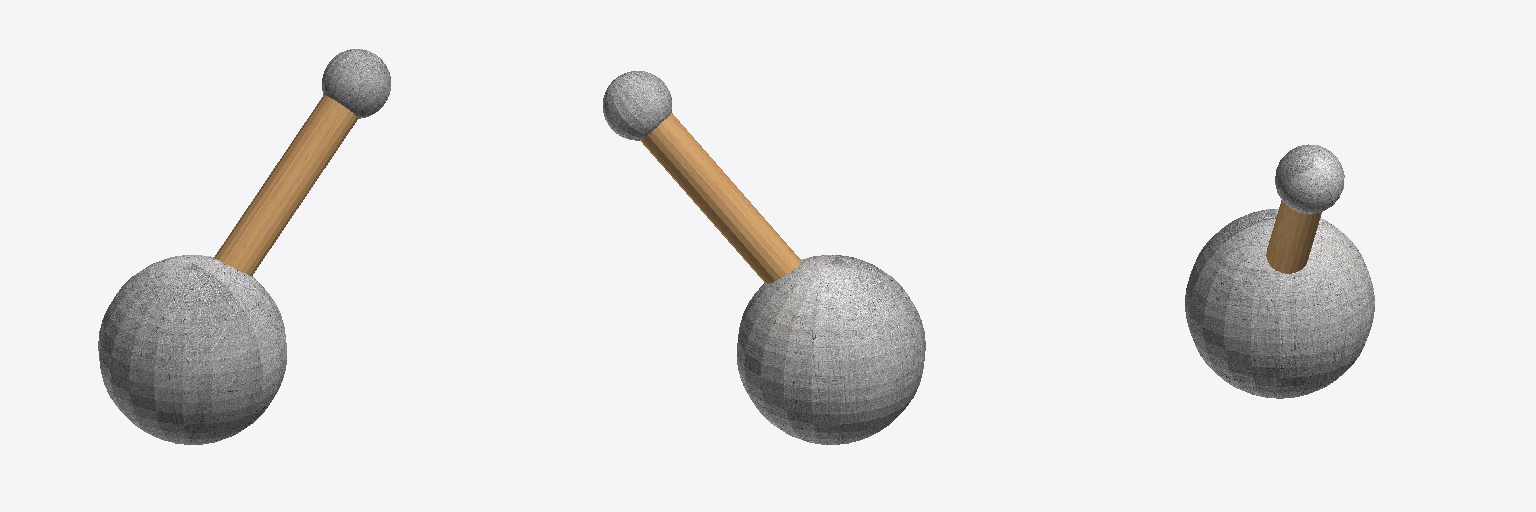
The picture shows the model from 3 angles: view 1: azimuth 30°, elevation 25°; view 2: azimuth 150°, elevation 25°; view 3: azimuth 270°, elevation 25°; orthographic projection.
Parts seen in each view (by area): view 1: controller2:pSphere3 controller2:group2, controller2:group2 controller2:pCylinder1, controller2:group2 controller2:pCylinder1 controller2:pSphere2; view 2: controller2:pSphere3 controller2:group2, controller2:group2 controller2:pCylinder1, controller2:group2 controller2:pCylinder1 controller2:pSphere2; view 3: controller2:pSphere3 controller2:group2, controller2:group2 controller2:pCylinder1 controller2:pSphere2, controller2:group2 controller2:pCylinder1.
Part boxes in pixels (x1,y1,x2,y2): controller2:pSphere3 controller2:group2: (98,255,286,444); controller2:group2 controller2:pCylinder1: (214,95,357,275); controller2:group2 controller2:pCylinder1 controller2:pSphere2: (322,49,390,118); controller2:pSphere3 controller2:group2: (737,255,925,444); controller2:group2 controller2:pCylinder1: (640,113,801,283); controller2:group2 controller2:pCylinder1 controller2:pSphere2: (603,71,671,140); controller2:pSphere3 controller2:group2: (1185,209,1374,398); controller2:group2 controller2:pCylinder1 controller2:pSphere2: (1275,144,1344,213); controller2:group2 controller2:pCylinder1: (1266,200,1321,273).
Bounding box in the file's own units: 1.9 × 2.05 × 1.07.
2 materials, 2 textured.